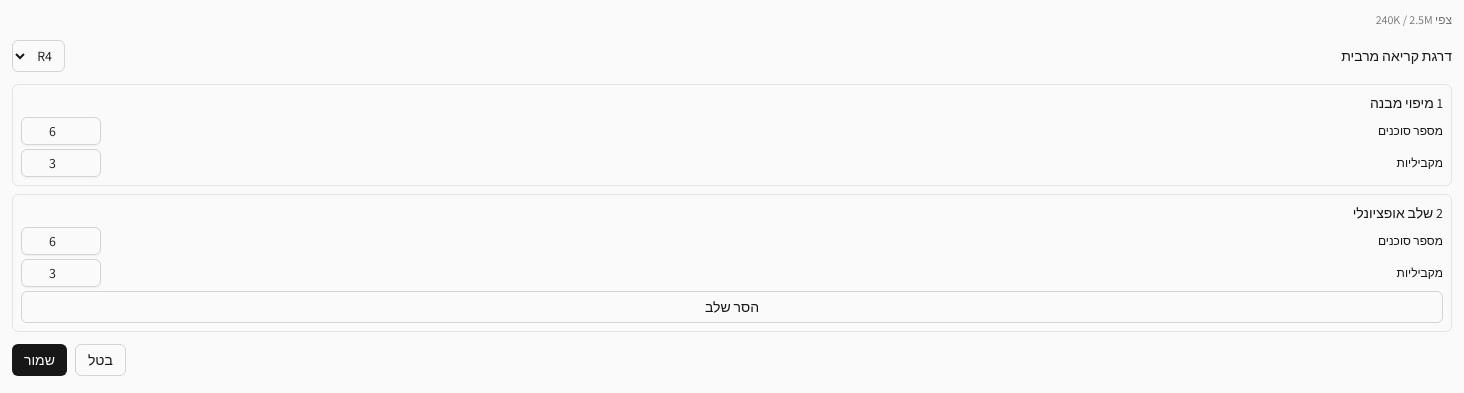
Test: PlanEditor (UX.md §4 עריכה) › removing an optional stage drops it from the list and updates the estimate
Expected: the text "צפי 240K / 2.5M" is shown, [1376, 12, 1452, 27]
Click the button "הסר שלב" at (732, 307), box [21, 291, 1443, 323]
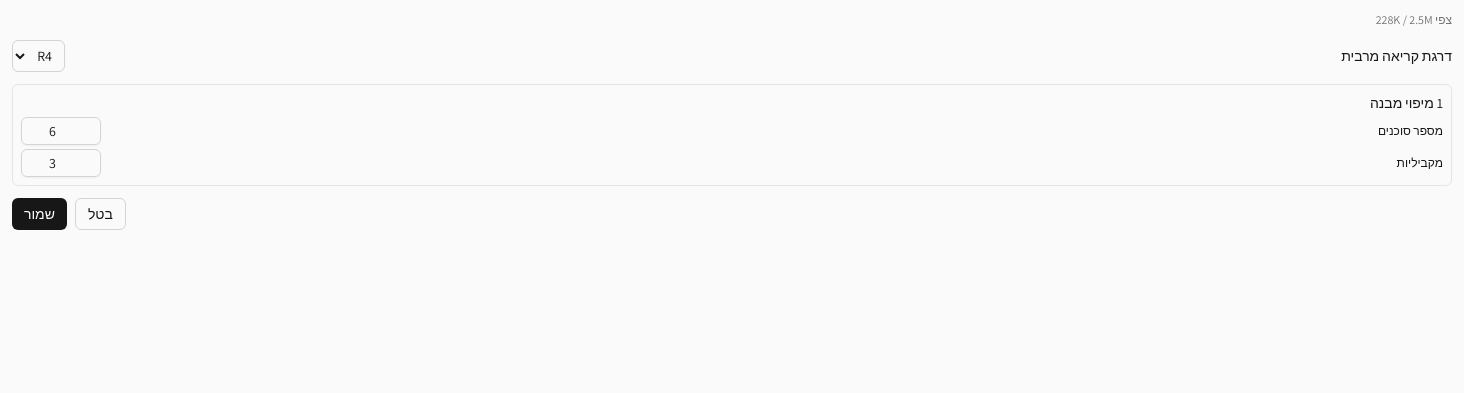
Now the text "שלב אופציונלי" is gone
Now the text "צפי 228K / 2.5M" is shown, box [1376, 12, 1452, 27]
